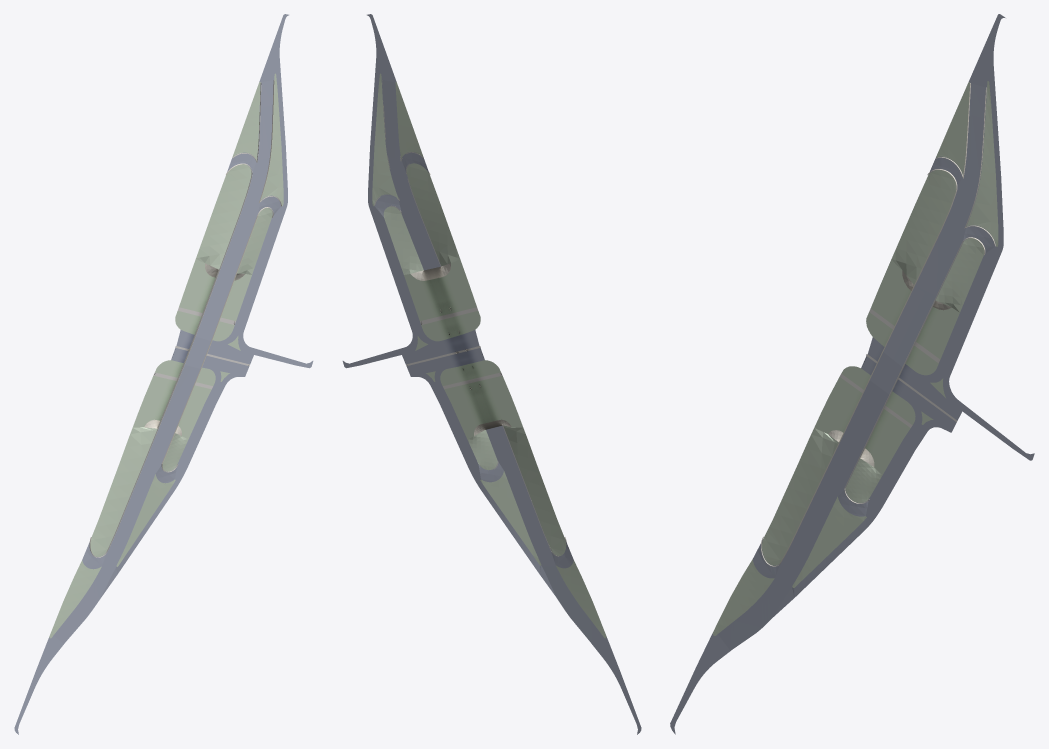
The picture shows the model from 3 angles, left to right: view 1: azimuth 30°, elevation 25°; view 2: azimuth 150°, elevation 25°; view 3: azimuth 330°, elevation 25°; orthographic projection. The views are drawn at different scales.
Visible parts, largest first — view 1: world; view 2: world; view 3: world.
Boxes of the visible parts, x1,y1,x2,y2 form: world: [14, 14, 313, 734]; world: [342, 14, 641, 734]; world: [670, 14, 1034, 734].
Size of the model in its own units: 391 by 819 by 8.28.
Materials: 1 (1 with a texture image).
